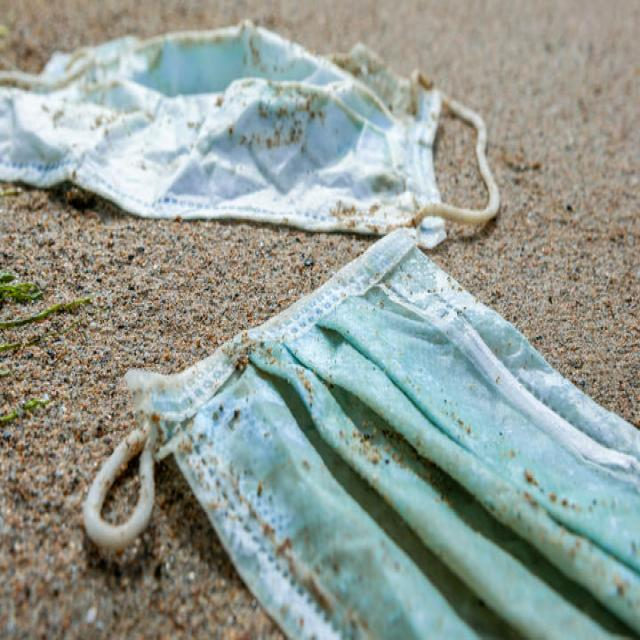non-organic waste: (82, 228, 640, 637), (0, 26, 499, 276)
